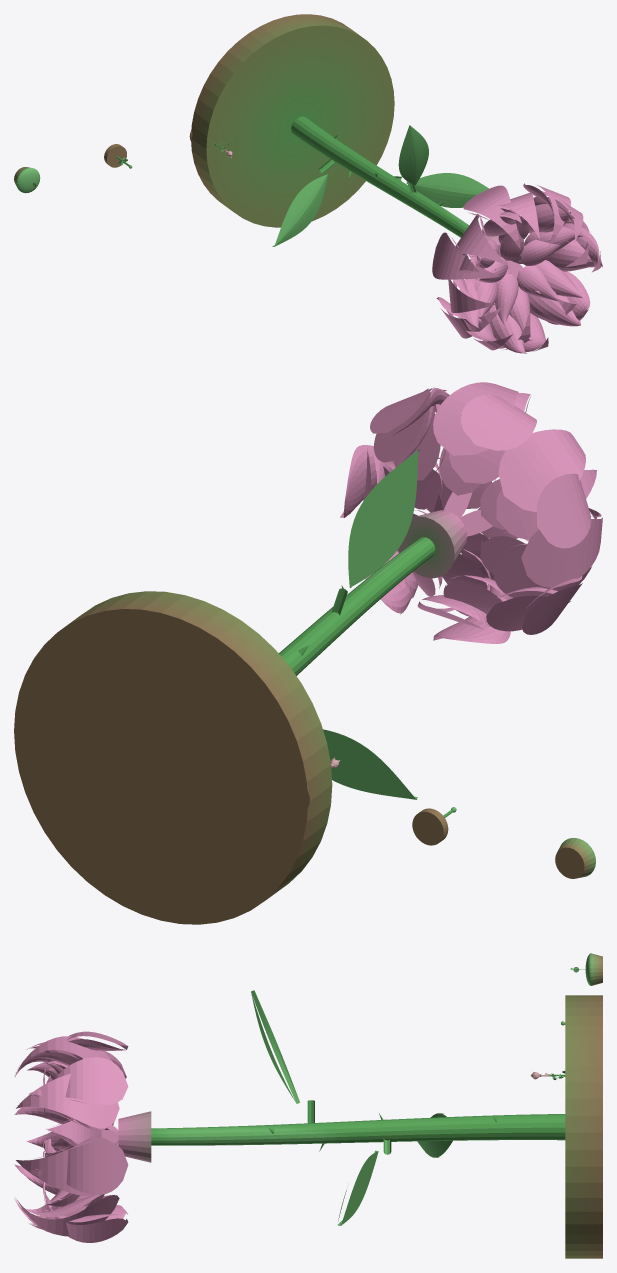
File: rose.glb
3 renders of one model, top to bottom at view 1: azimuth 30°, elevation 25°; view 2: azimuth 150°, elevation 25°; view 3: azimuth 270°, elevation 25°, orthographic. The views are drawn at different scales.
Visible parts, largest first — view 1: full, stage1_seedling, stage1b_young_sprout; view 2: full, stage1_seedling, stage1b_young_sprout, stage2_budding; view 3: full, stage1_seedling.
Part boxes in pixels (bbox=[...]): full: bbox=[191, 14, 602, 353]; stage1_seedling: bbox=[14, 167, 40, 193]; stage1b_young_sprout: bbox=[104, 144, 132, 168]; full: bbox=[14, 382, 602, 924]; stage1_seedling: bbox=[555, 838, 595, 878]; stage1b_young_sprout: bbox=[412, 807, 456, 845]; stage2_budding: bbox=[273, 757, 340, 814]; full: bbox=[14, 990, 602, 1258]; stage1_seedling: bbox=[570, 953, 602, 985].
Bounding box in the file's own units: 114 × 57.21 × 125.
